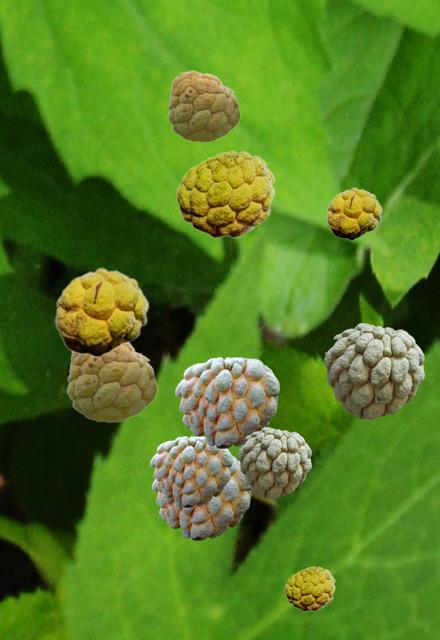atis: (324, 323, 423, 418), (175, 357, 278, 447), (175, 150, 274, 237), (54, 267, 148, 356), (152, 455, 251, 539), (66, 343, 156, 421), (150, 436, 231, 506), (167, 70, 239, 141), (238, 427, 310, 497), (326, 187, 381, 239), (284, 566, 334, 610)
